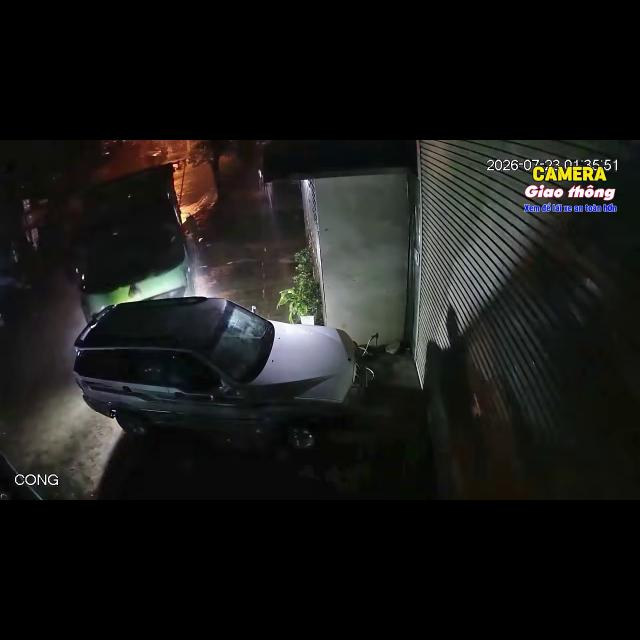car: (74, 297, 361, 437)
truck: (71, 164, 196, 320)
